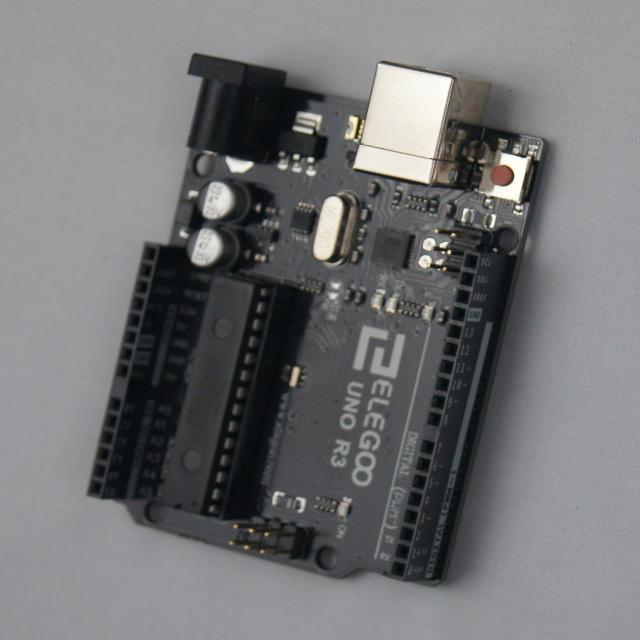Arduino Uno -Black-: (91, 54, 546, 582)
